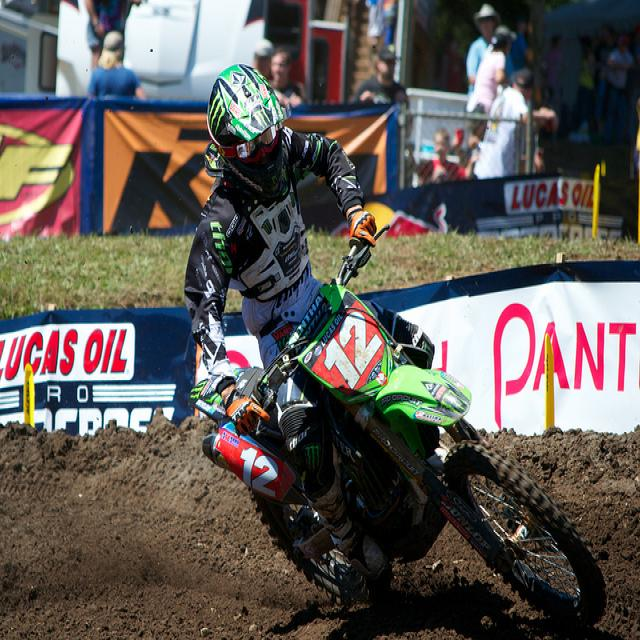motor: (198, 226, 605, 628)
